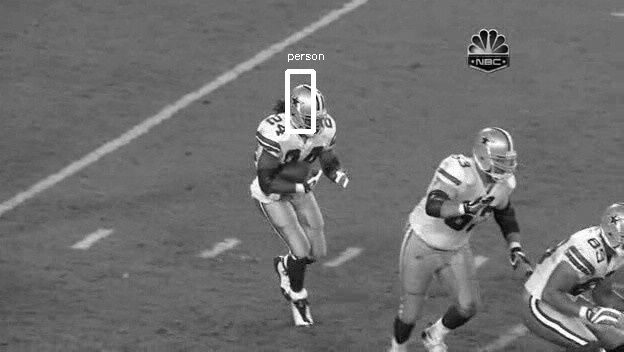person: (290, 85, 326, 131), (289, 85, 325, 131), (291, 85, 327, 131), (290, 84, 326, 130), (290, 86, 326, 132)
target_negative: (26, 53, 265, 337), (40, 26, 572, 130), (548, 88, 603, 257), (8, 245, 285, 256), (543, 149, 560, 262), (31, 173, 51, 218)
